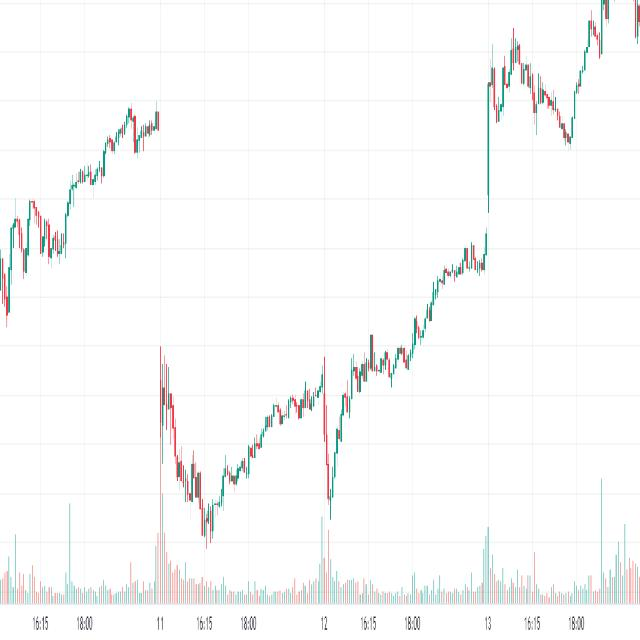Double-Top: (6, 180, 46, 304)
Head-Shoulders: (499, 30, 536, 127)
